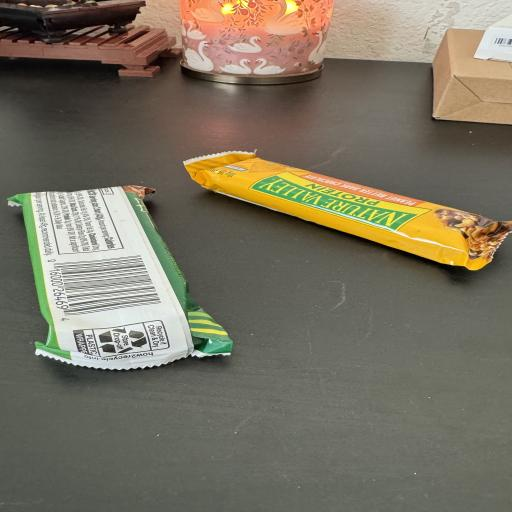granola: (9, 187, 232, 369), (184, 152, 511, 269)
